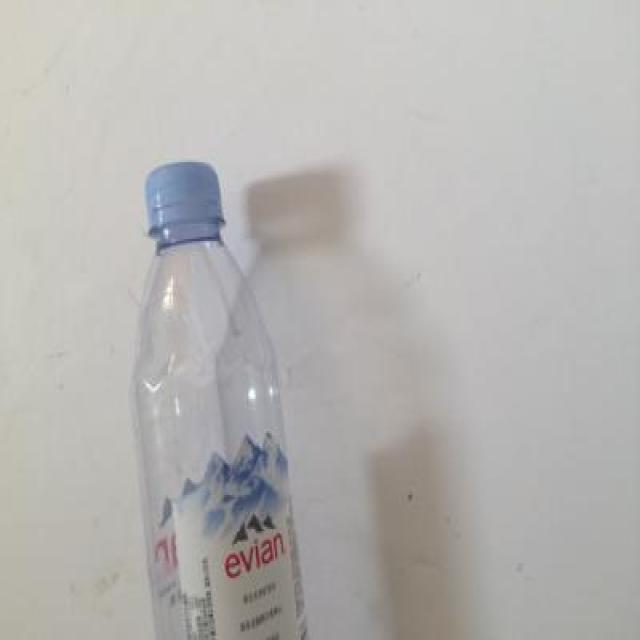plastic: (117, 153, 309, 640)
